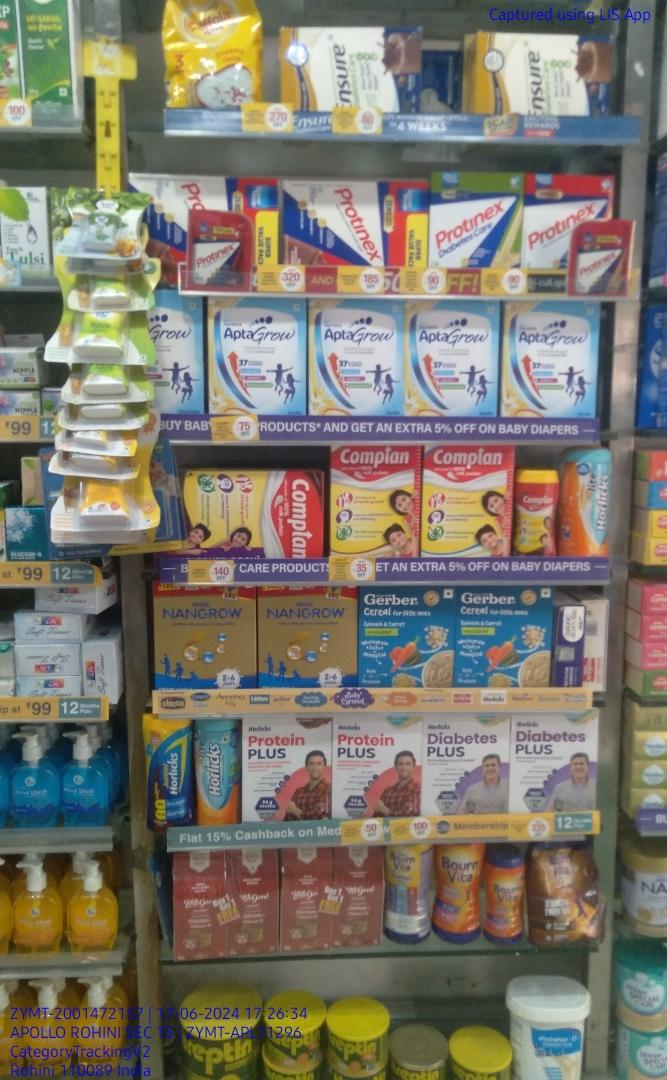BOURN_VITA_200_G_JAR: (486, 845, 524, 941)
BOURN_VITA_500_G_JAR: (432, 844, 482, 946)
BOURN_VITA_CHAMPS_500_G_JAR: (385, 844, 424, 944)
BOURN_VITA_FIVE_STAR_MAGIC_500_G_POUCH: (529, 842, 607, 949)
COMPLAN_CHOCOLATE_200_GMS_JAR: (513, 464, 557, 554)
COMPLAN_CREAMY_CLASSIC_500_G_PACK: (425, 443, 510, 557)
COMPLAN_KESAR_BADAM_500_GMS_PACK: (329, 446, 422, 556)
HORLICKS_LITE_REGULAR_MALT_500_GM_JAR: (565, 445, 612, 558), (192, 720, 238, 827)
